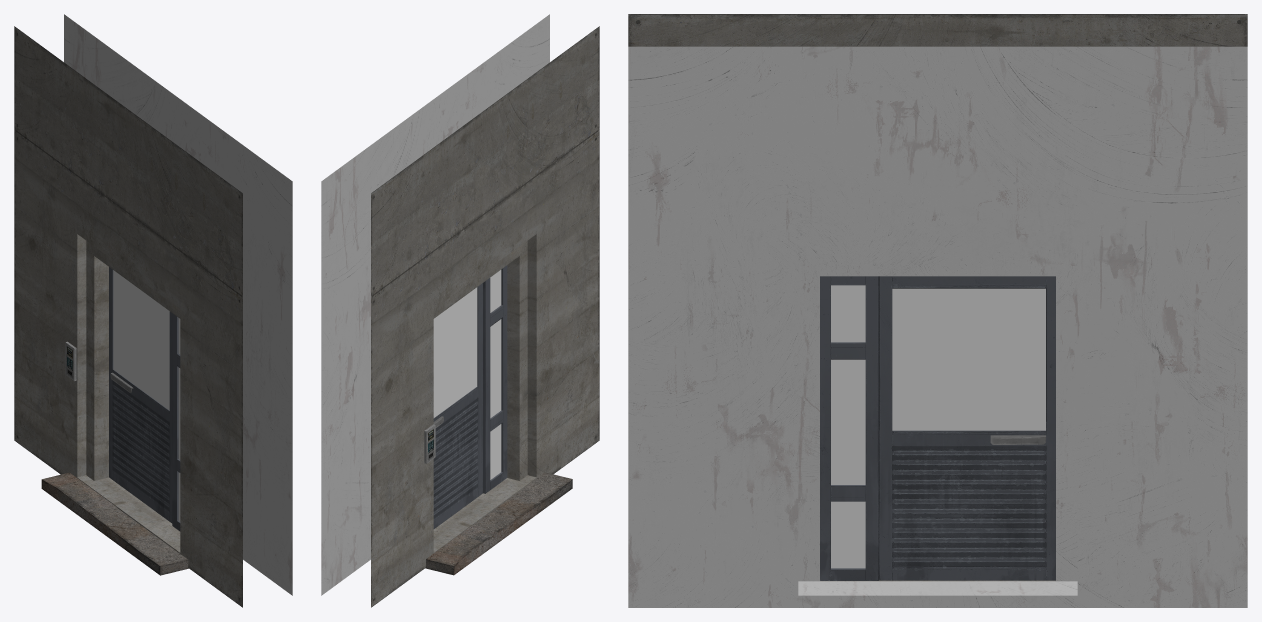
Rendered from CP_Wall_Entry_IN_01.fbx.
3 views of the same model, side by side, from view 1: azimuth 30°, elevation 25°; view 2: azimuth 150°, elevation 25°; view 3: azimuth 270°, elevation 25° (orthographic). The views are drawn at different scales.
Visible parts, largest first — view 1: CP_Wall_Entry_IN_01, CP_Door_01; view 2: CP_Wall_Entry_IN_01, CP_Door_01; view 3: CP_Wall_Entry_IN_01, CP_Door_01.
Part boxes in pixels (x1=…): CP_Wall_Entry_IN_01: x1=14, y1=14, x2=292, y2=607; CP_Door_01: x1=109, y1=267, x2=172, y2=523; CP_Wall_Entry_IN_01: x1=321, y1=14, x2=599, y2=607; CP_Door_01: x1=433, y1=283, x2=482, y2=528; CP_Wall_Entry_IN_01: x1=628, y1=14, x2=1247, y2=607; CP_Door_01: x1=879, y1=276, x2=1055, y2=580.
Bounding box in the file's own units: 78.2 × 401 × 400.
